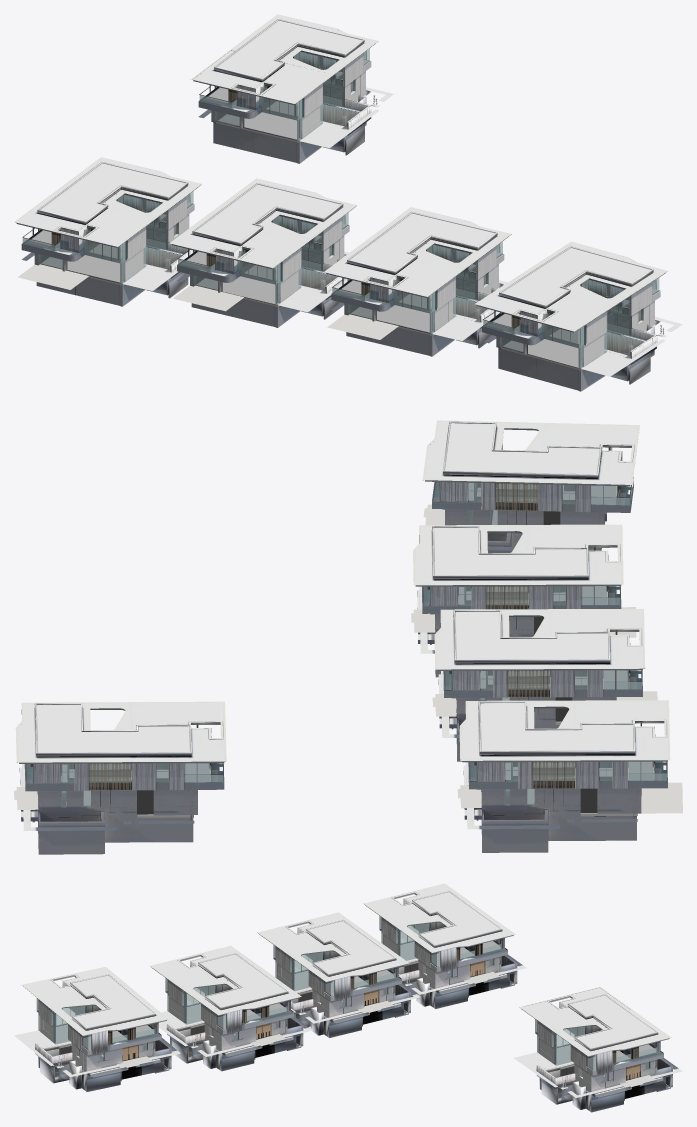
The model's file is Elie Saab_build_5.glb.
The picture shows the model from 3 angles, top to bottom: view 1: azimuth 30°, elevation 25°; view 2: azimuth 150°, elevation 25°; view 3: azimuth 270°, elevation 25°; orthographic projection. The views are drawn at different scales.
Visible parts, largest first — view 1: Elie Saab_build.005; view 2: Elie Saab_build.005; view 3: Elie Saab_build.005.
Part boxes in pixels (bbox=[...]): Elie Saab_build.005: bbox=[14, 14, 682, 391]; Elie Saab_build.005: bbox=[14, 420, 682, 854]; Elie Saab_build.005: bbox=[14, 883, 682, 1112].
Bounding box in the file's own units: 70.59 × 13.88 × 111.
Materials: 6 (4 with a texture image).
